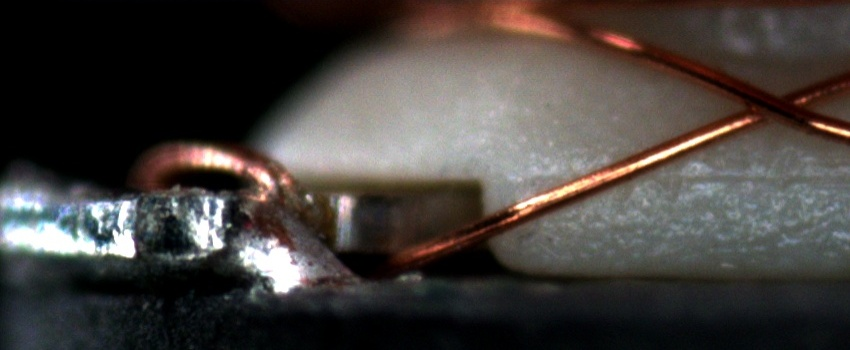CL: (711, 77, 828, 130)
DL: (518, 143, 850, 206)
TE: (124, 129, 308, 202)
